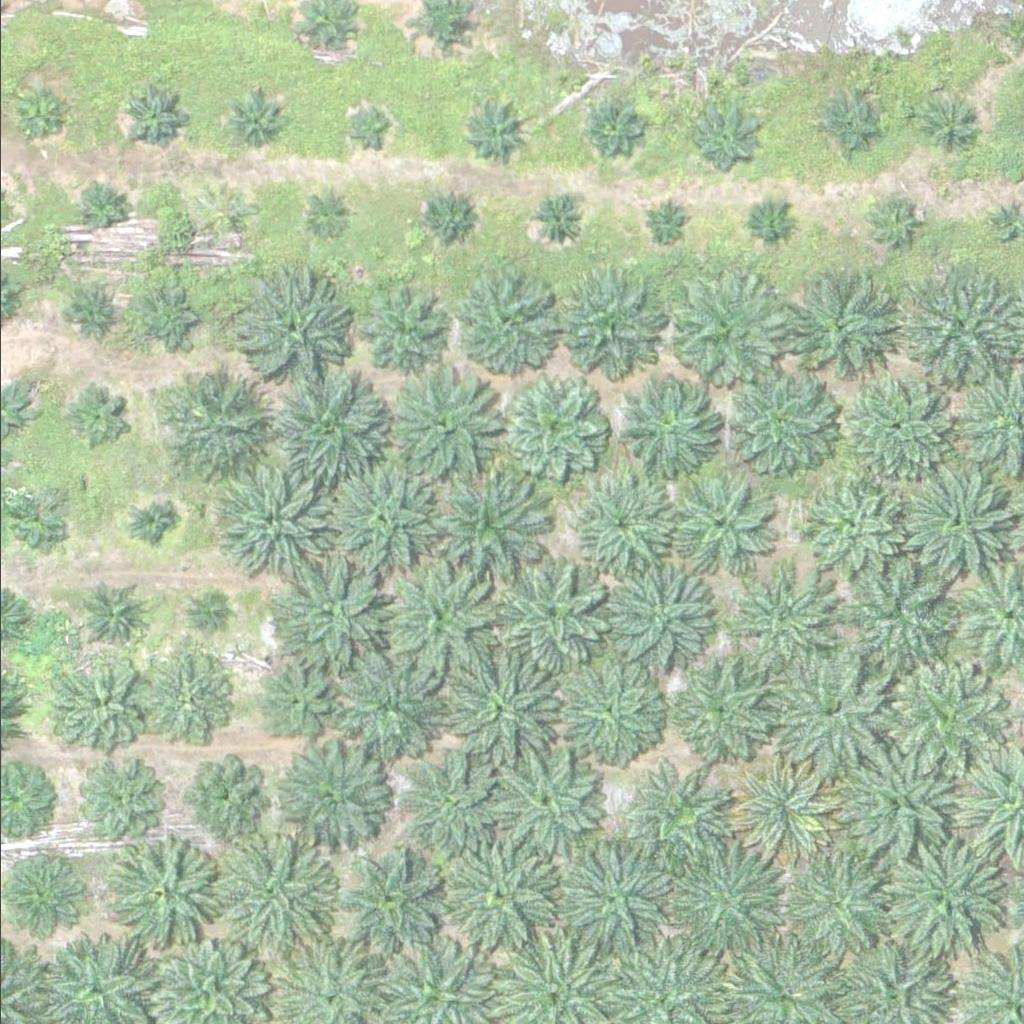Kelapa_Sawit: (422, 467, 548, 592), (228, 265, 354, 390), (326, 462, 440, 575), (381, 372, 495, 485), (496, 370, 610, 483), (664, 274, 778, 387), (110, 832, 223, 945), (270, 735, 383, 848), (442, 653, 555, 766), (341, 639, 454, 752), (218, 460, 331, 573), (276, 373, 389, 486), (161, 364, 274, 477), (889, 838, 1002, 951), (904, 272, 1017, 385), (789, 272, 902, 385), (841, 555, 954, 668), (888, 659, 1001, 772), (723, 753, 836, 866), (490, 750, 603, 863), (770, 655, 883, 768), (665, 651, 778, 764), (720, 364, 833, 477), (280, 553, 394, 665), (545, 267, 659, 379), (220, 835, 333, 947), (383, 564, 496, 676), (779, 850, 892, 962), (670, 840, 783, 952), (559, 840, 672, 952), (447, 839, 560, 951), (903, 467, 1016, 579), (839, 746, 952, 858), (725, 563, 838, 675), (493, 559, 606, 671), (335, 849, 436, 949), (849, 382, 950, 482), (795, 479, 896, 579), (557, 661, 658, 761), (612, 568, 713, 668), (663, 476, 764, 576), (460, 273, 561, 373), (571, 477, 671, 577), (617, 381, 717, 481), (145, 653, 233, 741), (51, 661, 139, 749), (356, 283, 444, 371), (632, 771, 721, 858), (401, 758, 489, 845), (187, 761, 263, 836), (72, 763, 148, 838), (254, 659, 330, 734), (690, 101, 765, 176), (575, 97, 638, 160), (226, 86, 289, 149), (121, 86, 184, 149), (7, 482, 70, 545), (7, 79, 70, 142), (525, 187, 588, 250), (915, 97, 978, 159), (818, 96, 881, 158), (464, 98, 527, 160), (134, 286, 197, 348), (65, 390, 128, 452), (413, 184, 476, 246), (870, 199, 921, 249), (68, 292, 119, 342), (308, 190, 359, 240), (211, 189, 262, 239), (82, 179, 133, 229), (346, 105, 397, 155), (746, 195, 797, 245), (90, 590, 140, 640), (639, 199, 689, 249), (191, 598, 229, 636), (129, 503, 167, 540)
